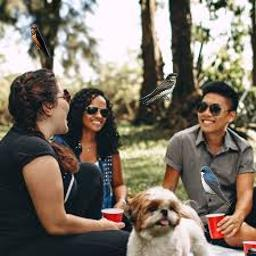Swallow: (138, 73, 178, 105), (199, 166, 230, 206), (31, 24, 50, 60)
